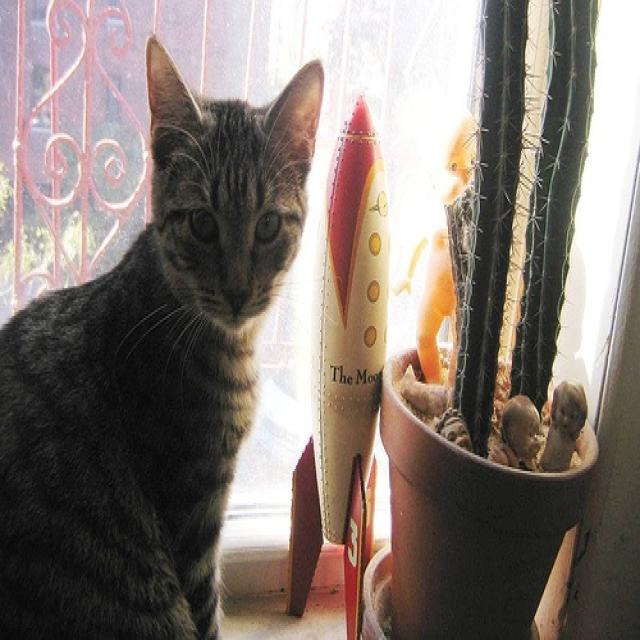cat: (0, 32, 321, 632)
pottedplant: (358, 4, 607, 638)
